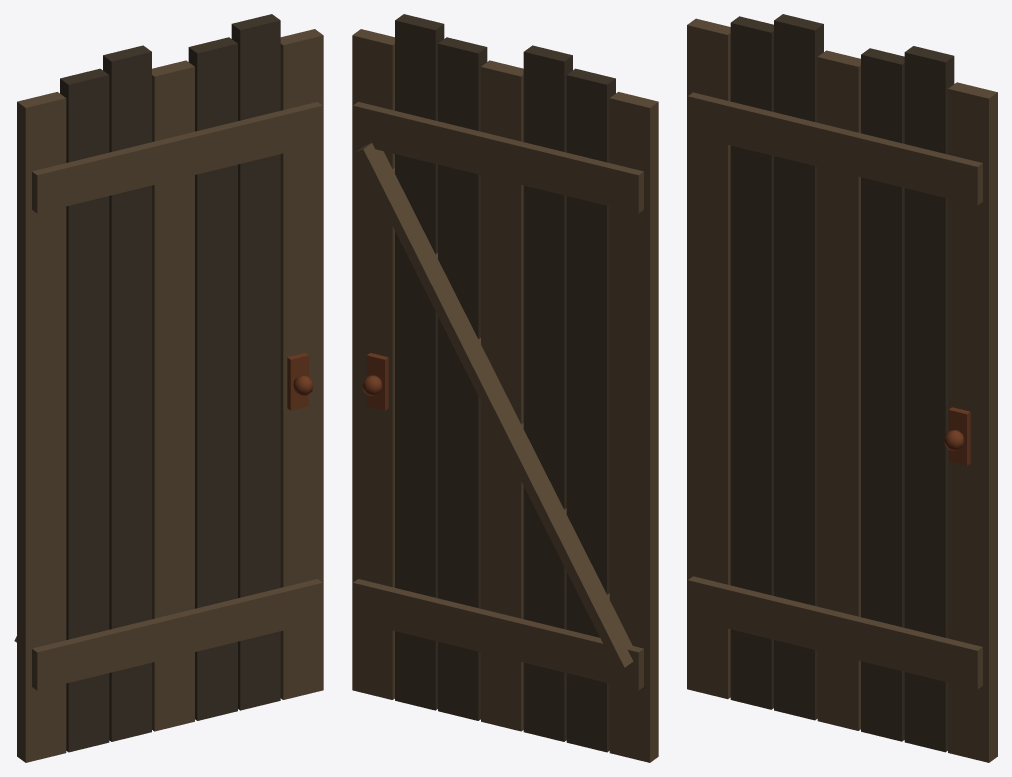
The model's file is SM_Door_abandoned_100x215.fbx.
3 renders of one model, left to right at view 1: azimuth 30°, elevation 25°; view 2: azimuth 150°, elevation 25°; view 3: azimuth 330°, elevation 25°, orthographic.
Parts seen in each view (by area): view 1: SM_Door_abandoned_100x215; view 2: SM_Door_abandoned_100x215; view 3: SM_Door_abandoned_100x215.
Boxes of the visible parts, <box> form: SM_Door_abandoned_100x215: <box>14,14,323,762</box>; SM_Door_abandoned_100x215: <box>352,14,658,762</box>; SM_Door_abandoned_100x215: <box>687,14,997,762</box>.
Bounding box in the file's own units: 0.98 × 2.14 × 0.2.
